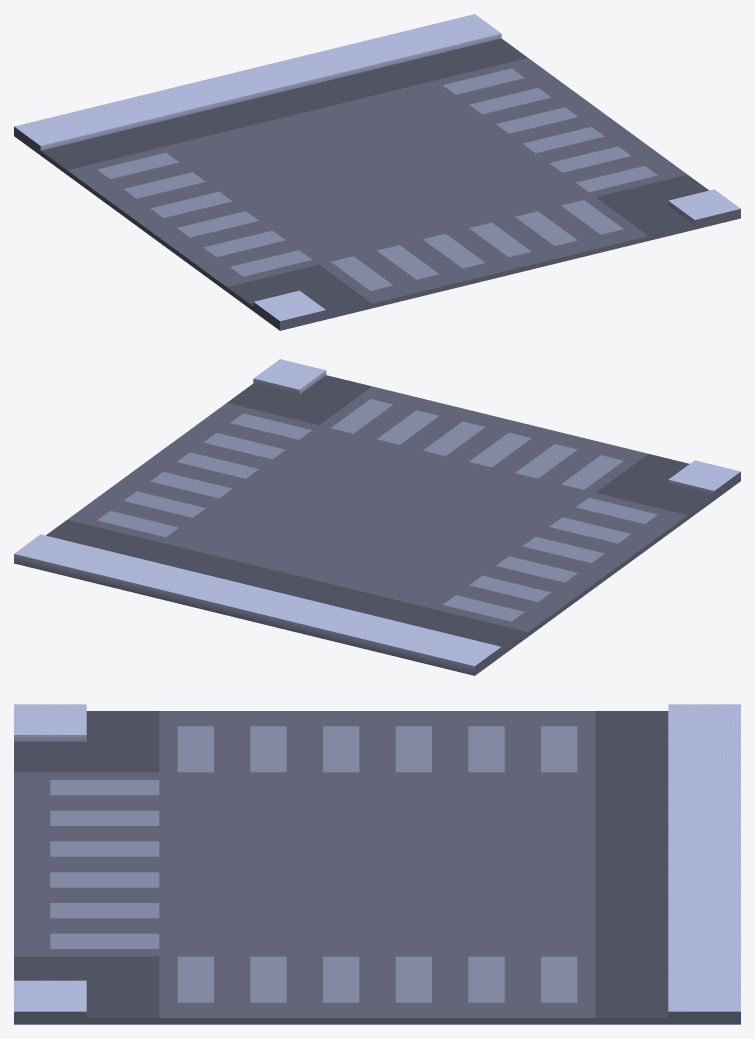
Rendered from road-intersection-path.glb.
The picture shows the model from 3 angles, top to bottom: view 1: azimuth 30°, elevation 25°; view 2: azimuth 150°, elevation 25°; view 3: azimuth 270°, elevation 25°; orthographic projection. The views are drawn at different scales.
Visible parts, largest first — view 1: road-intersection-path; view 2: road-intersection-path; view 3: road-intersection-path.
Part boxes in pixels (<box>): road-intersection-path: <box>14,14,740,330</box>; road-intersection-path: <box>14,359,740,675</box>; road-intersection-path: <box>14,704,740,1024</box>.
Size of the model in its own units: 1 by 0.02 by 1.
